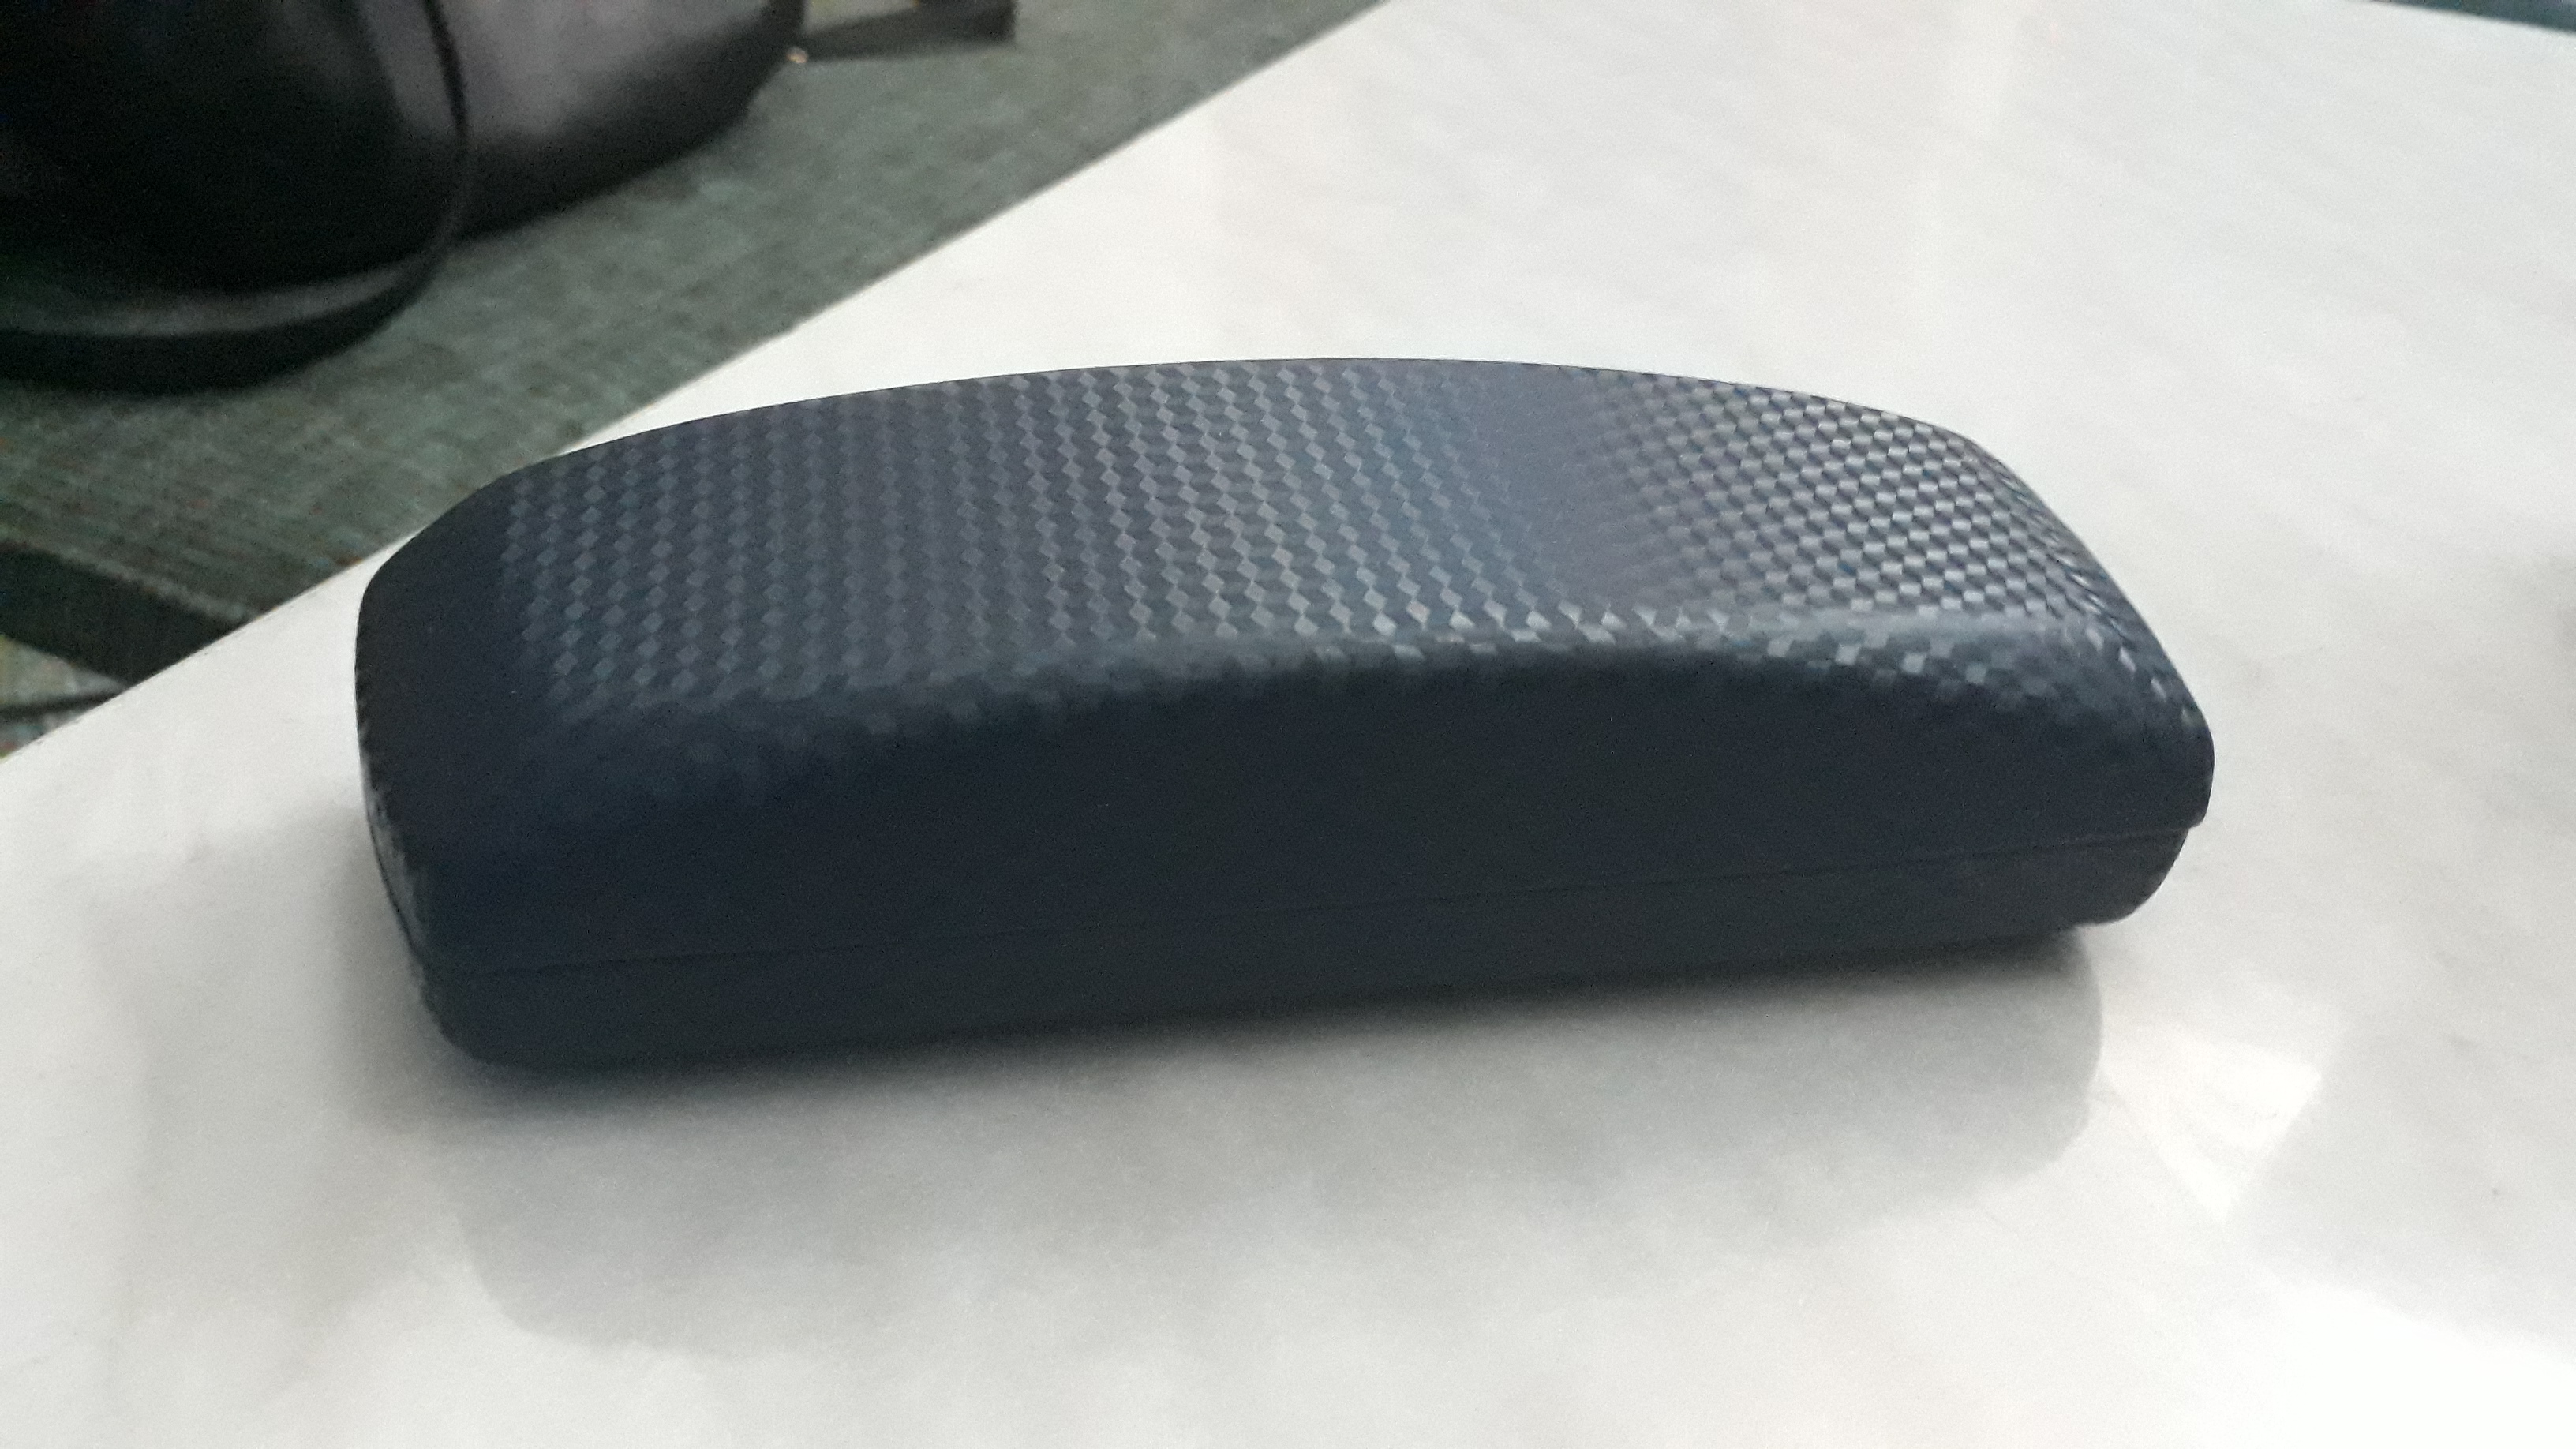nadar: (292, 317, 2242, 1120)
